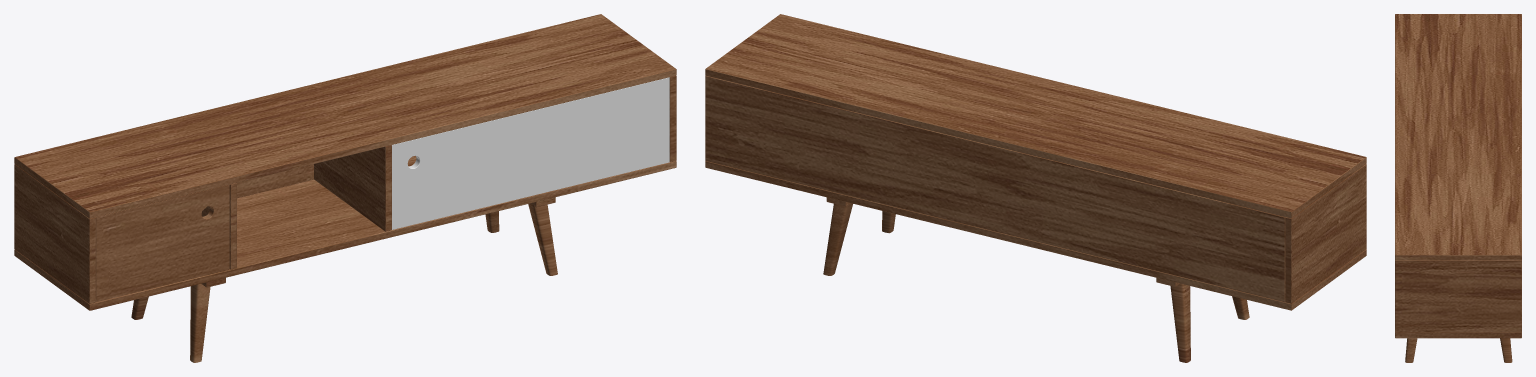
Rendered from Andersen_media_unit.glb.
3 views of the same model, side by side, from view 1: azimuth 30°, elevation 25°; view 2: azimuth 150°, elevation 25°; view 3: azimuth 270°, elevation 25° (orthographic). The views are drawn at different scales.
Parts seen in each view (by area): view 1: Object_3; view 2: Object_3; view 3: Object_3.
Boxes of the visible parts, <box> form: Object_3: <box>14,14,676,362</box>; Object_3: <box>705,14,1366,362</box>; Object_3: <box>1395,14,1521,362</box>.
Size of the model in its own units: 2.5 by 0.7435 by 0.556.
1 material, 1 textured.
